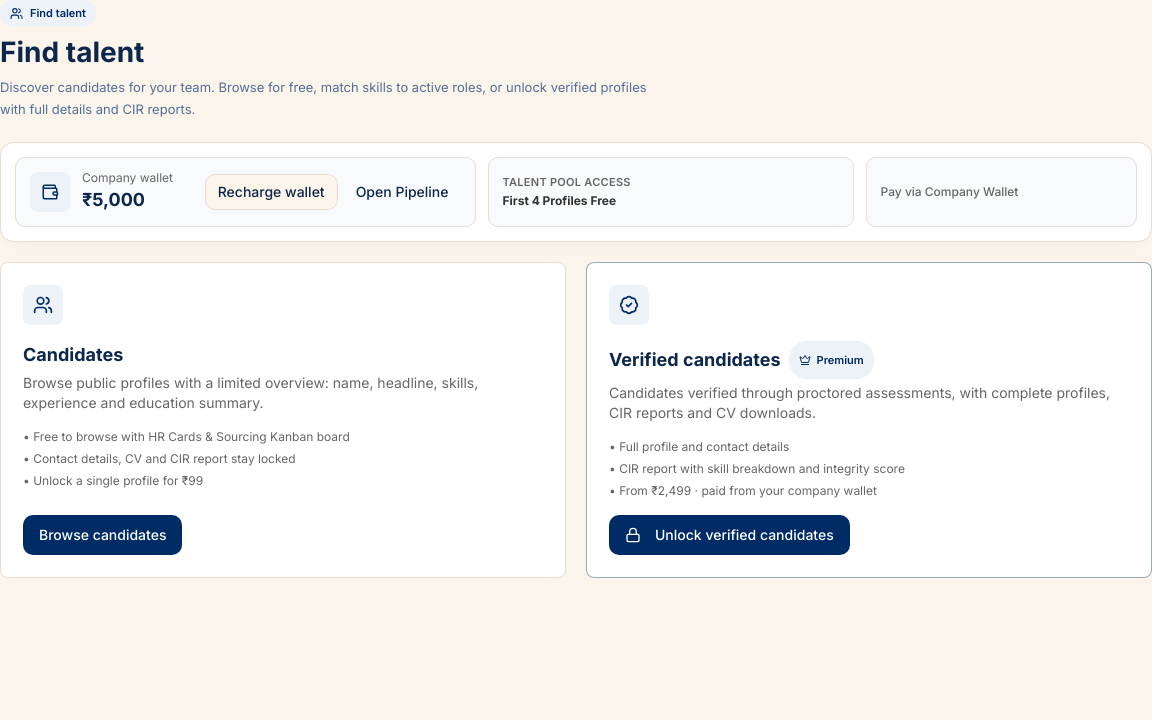
Scenario: Find Talent › purchases the subscription from the wallet and unlocks access
Click the button "Unlock verified candidates": [729, 535] box [609,515,850,555]
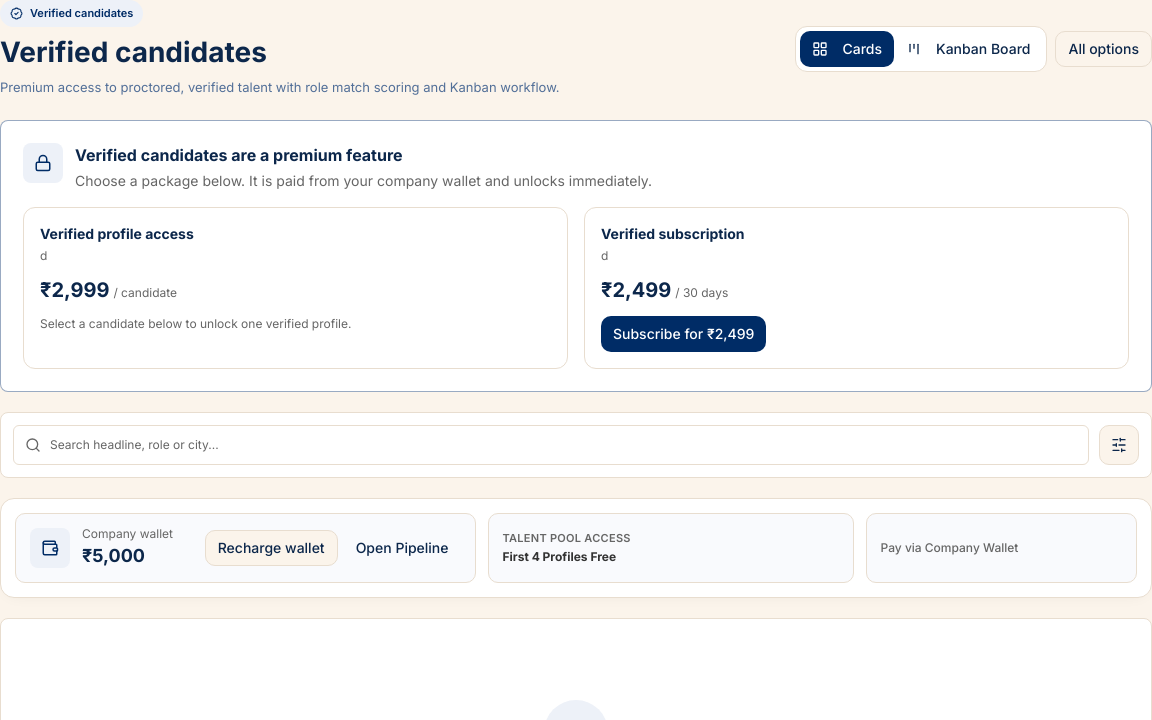
Click the button "Subscribe for ₹2,499": [684, 334] box [601,316,766,352]
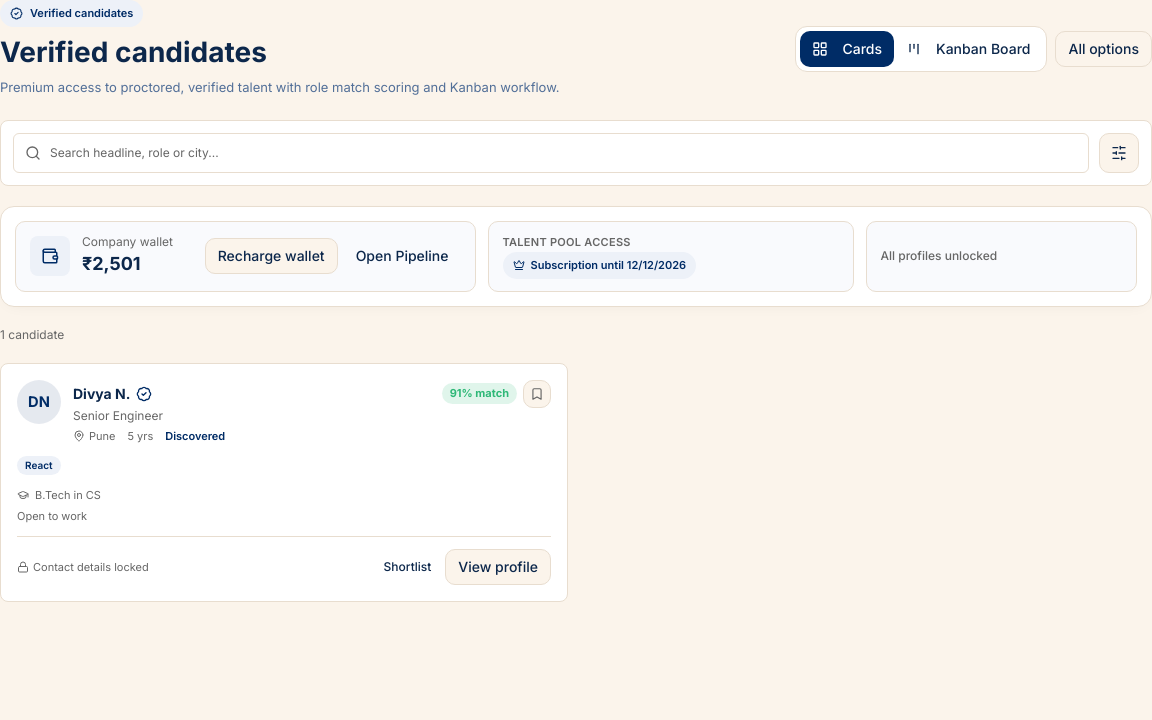
Expected: the heading "Verified candidates are a premium feature" is gone
Expected: the text "Subscription until 12/12/2026" is shown, [502,252,696,279]
Expected: the button "View profile" is shown, [445,549,551,585]
